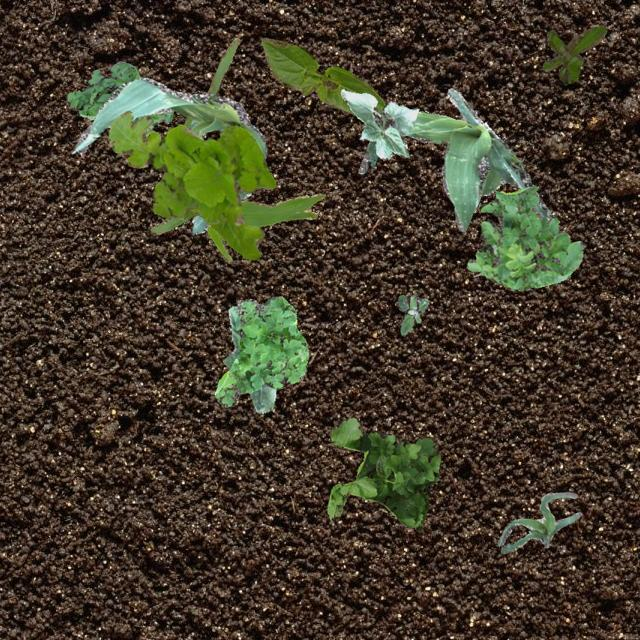crop: (150, 36, 324, 262), (70, 76, 266, 232), (358, 88, 550, 230), (260, 36, 384, 112), (222, 296, 278, 414), (340, 88, 418, 158), (496, 490, 580, 552)
weed: (108, 110, 274, 258), (326, 416, 439, 530), (467, 184, 582, 290), (214, 296, 308, 406), (65, 60, 171, 136), (542, 23, 606, 82), (190, 190, 250, 223), (397, 294, 428, 334)
